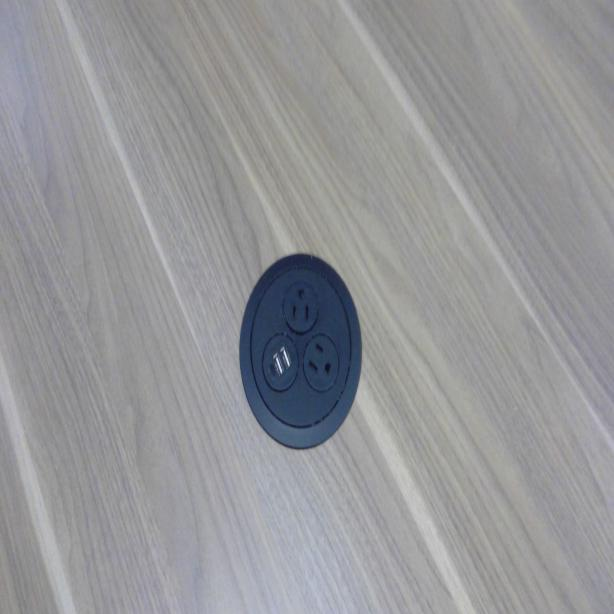typeb: (288, 279, 312, 325), (309, 340, 334, 384)
